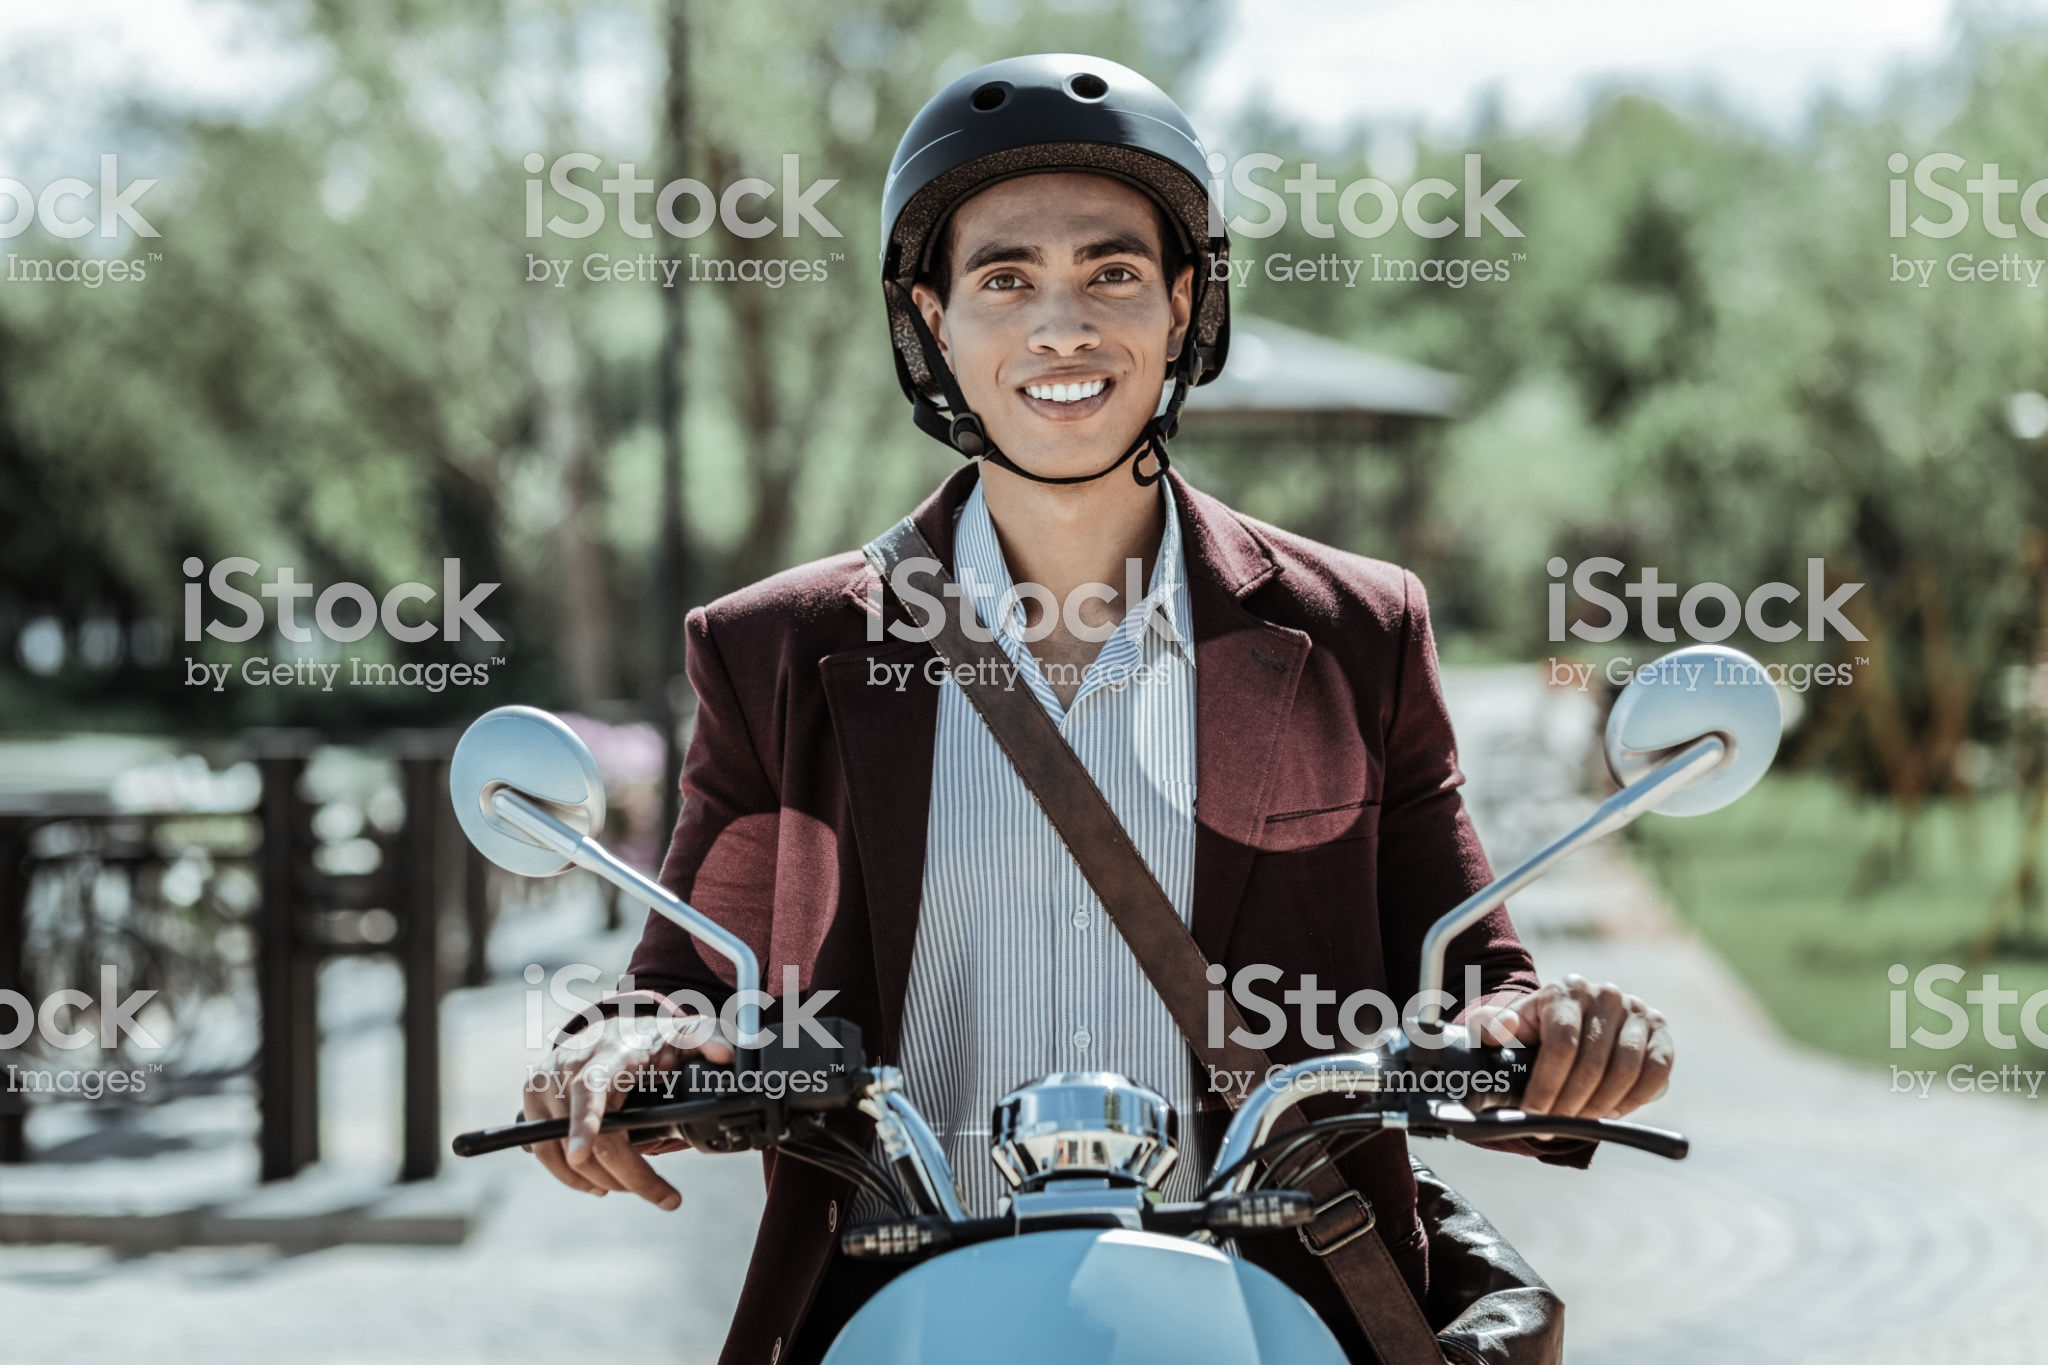helmet: (854, 46, 1243, 279)
